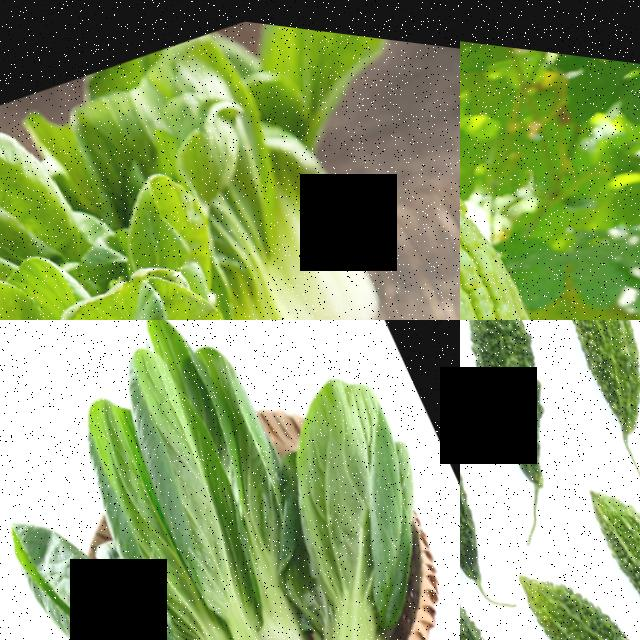bitter gourd: (460, 102, 640, 320), (460, 320, 600, 506), (509, 523, 640, 640), (505, 320, 640, 433), (460, 320, 519, 565), (573, 435, 640, 640)
bok choy: (212, 12, 418, 320), (135, 328, 332, 640), (265, 388, 460, 640), (104, 442, 306, 640), (178, 147, 353, 320), (136, 201, 308, 320)
